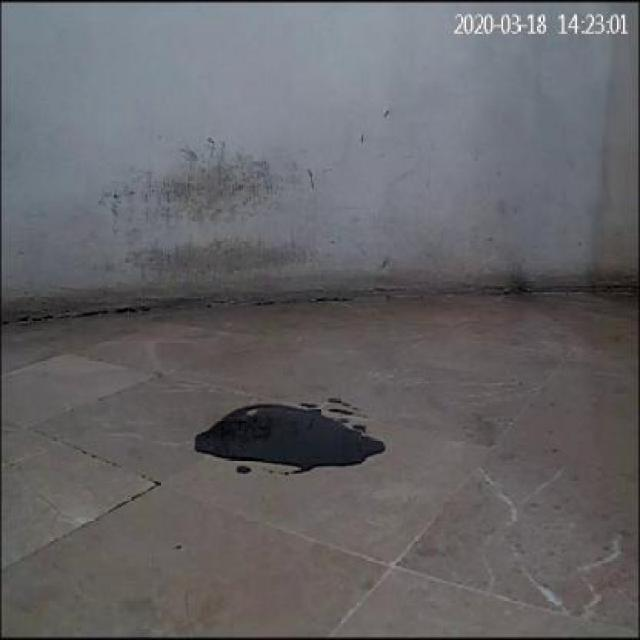spill: (192, 406, 390, 474)
